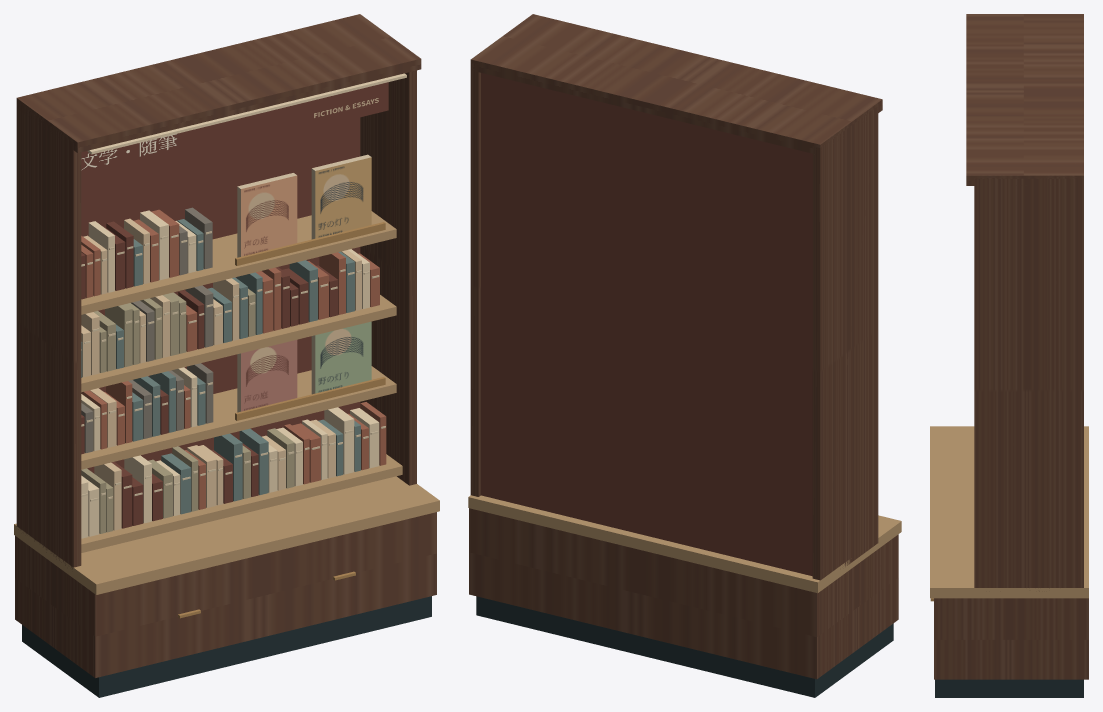
Rendered from orienne_press_2.glb.
3 views of the same model, side by side, from view 1: azimuth 30°, elevation 25°; view 2: azimuth 150°, elevation 25°; view 3: azimuth 270°, elevation 25° (orthographic). The views are drawn at different scales.
Size of the model in its own units: 1.95 by 2.95 by 0.81.
1 material, 1 textured.
